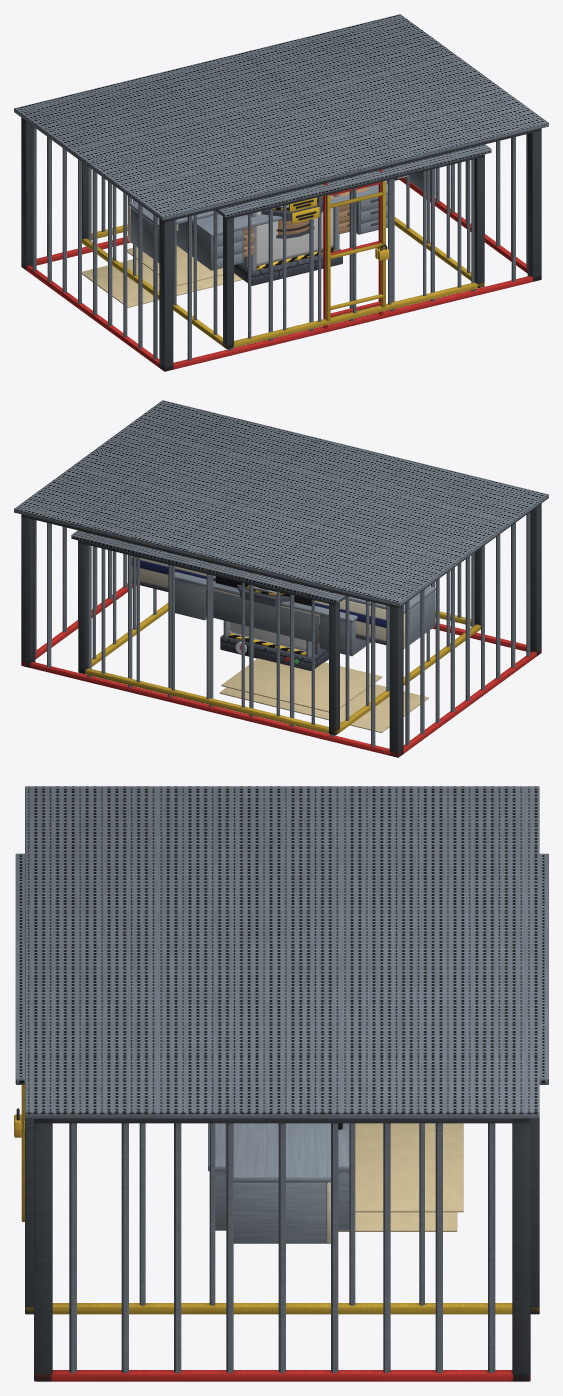
The model's file is PocketProps.fbx.
The picture shows the model from 3 angles, top to bottom: view 1: azimuth 30°, elevation 25°; view 2: azimuth 150°, elevation 25°; view 3: azimuth 270°, elevation 25°; orthographic projection. The views are drawn at different scales.
Parts seen in each view (by area): view 1: PkCellBody.001, PkKennelBody.001, PkDeskLabBody.001, PkTankBody.001, PkTankGlass.001, PkDeskFrontBody.001, PkDeskOfficeBody.001, PkWaterTankBody.001; view 2: PkCellBody.001, PkKennelBody.001, PkDeskLabBody.001, PkDeskFrontBody.001, PkTankBody.001, PkTankGlass.001, PkPadBody.001; view 3: PkCellBody.001, PkKennelBody.001, PkDeskFrontBody.001, PkDeskLabBody.001.
Boxes of the visible parts, x1,y1,x2,y2 form: PkCellBody.001: [14, 14, 548, 371]; PkKennelBody.001: [82, 144, 491, 349]; PkDeskLabBody.001: [176, 183, 387, 270]; PkTankBody.001: [234, 194, 342, 285]; PkTankGlass.001: [256, 195, 333, 266]; PkDeskFrontBody.001: [128, 169, 435, 262]; PkDeskOfficeBody.001: [244, 187, 369, 257]; PkWaterTankBody.001: [276, 220, 314, 238]; PkCellBody.001: [14, 400, 548, 757]; PkKennelBody.001: [71, 530, 480, 735]; PkDeskLabBody.001: [175, 571, 370, 656]; PkDeskFrontBody.001: [132, 556, 435, 648]; PkTankBody.001: [220, 620, 328, 670]; PkTankGlass.001: [230, 622, 306, 651]; PkPadBody.001: [237, 584, 289, 606]; PkCellBody.001: [23, 786, 539, 1381]; PkKennelBody.001: [14, 853, 548, 1314]; PkDeskFrontBody.001: [225, 1123, 330, 1243]; PkDeskLabBody.001: [208, 1123, 349, 1230].
Bounding box in the file's own units: 42 × 16.4 × 29.1.
Materials: 23 (23 with a texture image).
